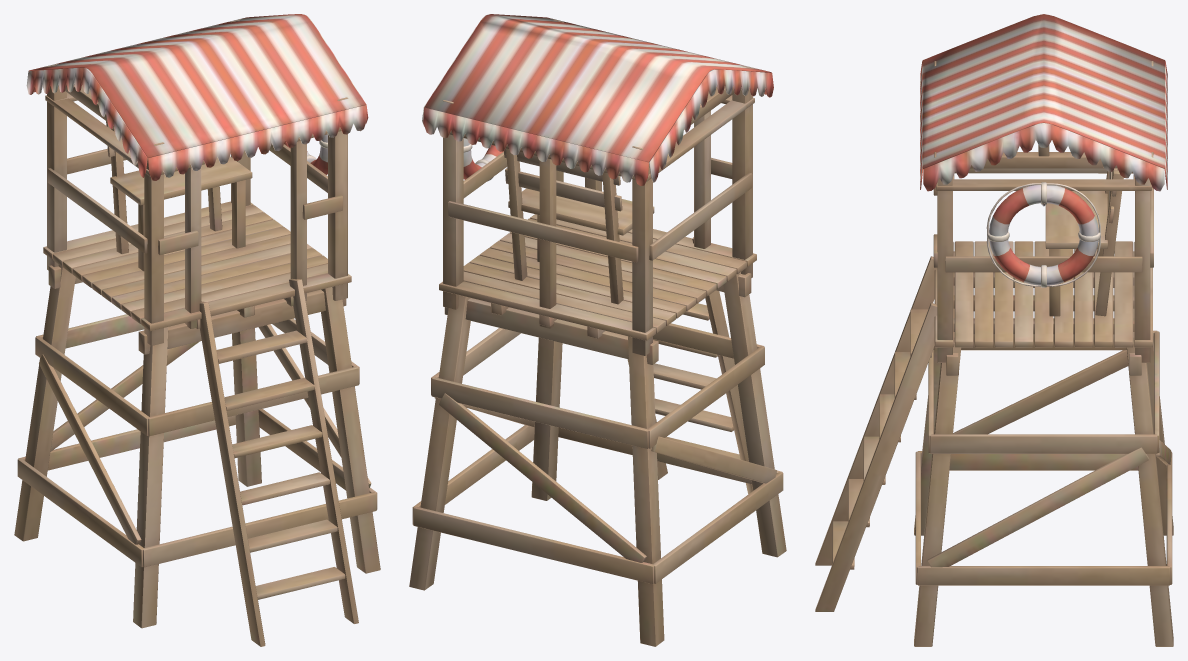
Rendered from lifeguard-tower-OXNNBK3X.glb.
3 renders of one model, left to right at view 1: azimuth 30°, elevation 25°; view 2: azimuth 150°, elevation 25°; view 3: azimuth 270°, elevation 25°, orthographic. The views are drawn at different scales.
Parts seen in each view (by area): view 1: lifeguard-tower_body; view 2: lifeguard-tower_body; view 3: lifeguard-tower_body.
Part boxes in pixels (x1=…): lifeguard-tower_body: x1=14, y1=14, x2=380, y2=646; lifeguard-tower_body: x1=409, y1=14, x2=786, y2=646; lifeguard-tower_body: x1=815, y1=14, x2=1173, y2=646.
Bounding box in the file's own units: 1.54 × 3.14 × 1.96.
Materials: 1 (1 with a texture image).
